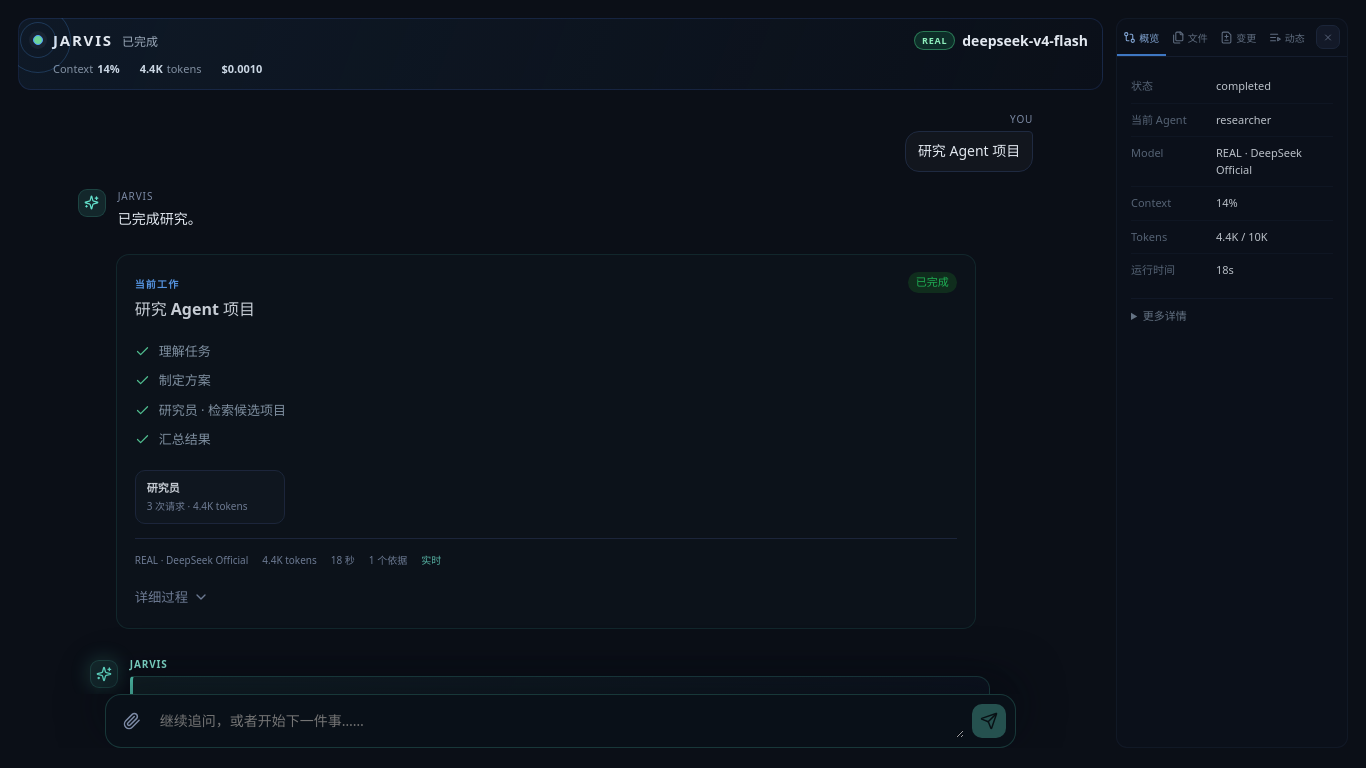
Test: renders real task usage, execution summary and final result in the same thread
Expected: the element named "当前任务" is shown, [116,254,976,629]
Expected: the text "研究员" is shown, [147,480,180,494]
Click the button named "关闭检查器": {"x": 1328, "y": 37} [1316,25,1340,49]
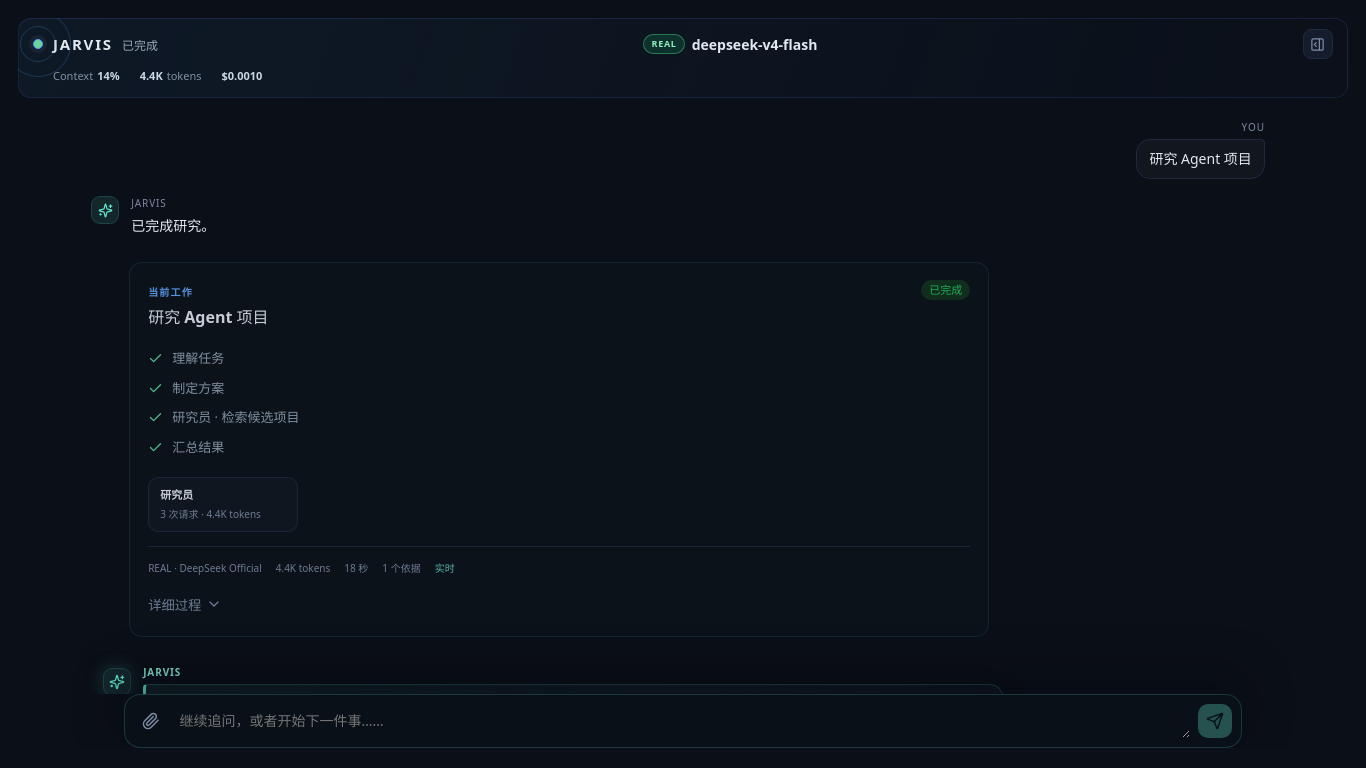
Expected: the field labelled "检查器" is gone
Click the button named "打开检查器": {"x": 1318, "y": 44} [1303,29,1333,59]
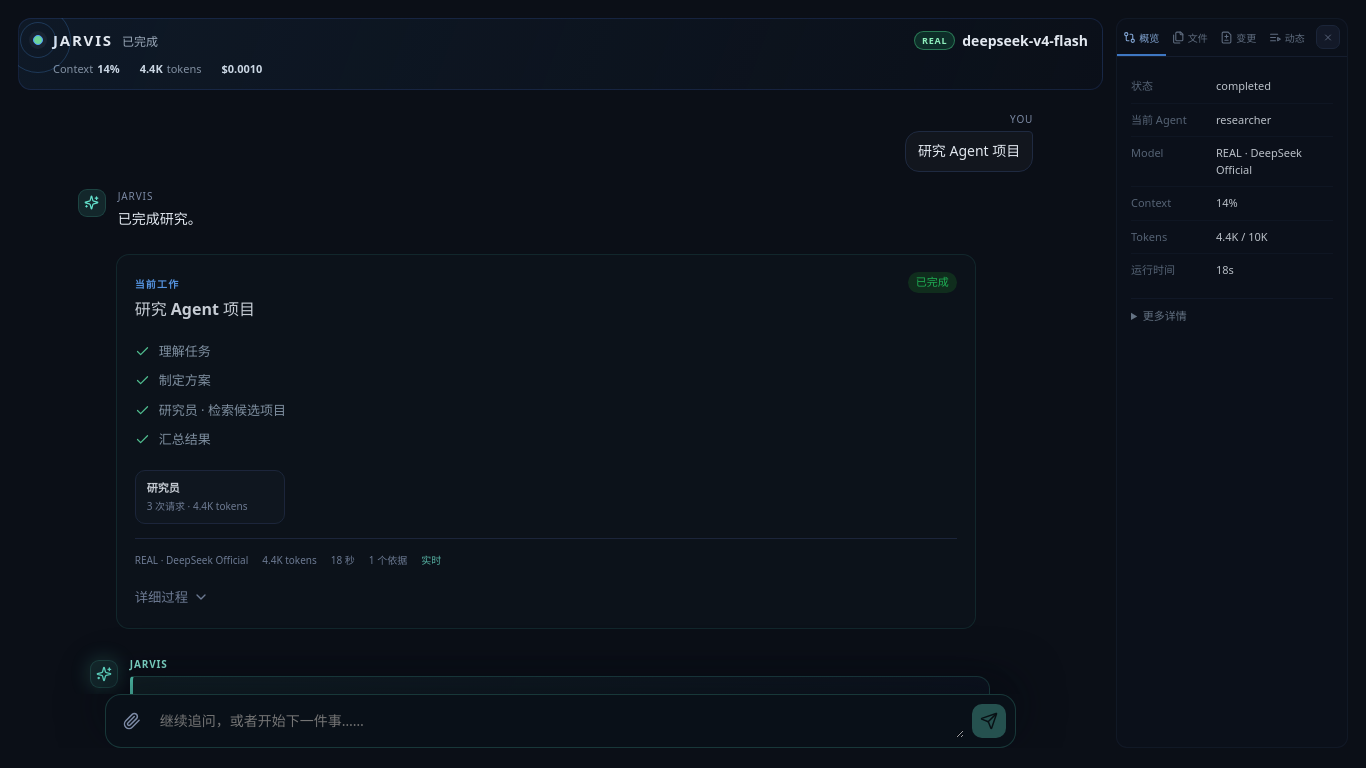
Expected: the element named "检查器" is shown, [1116,18,1348,748]
